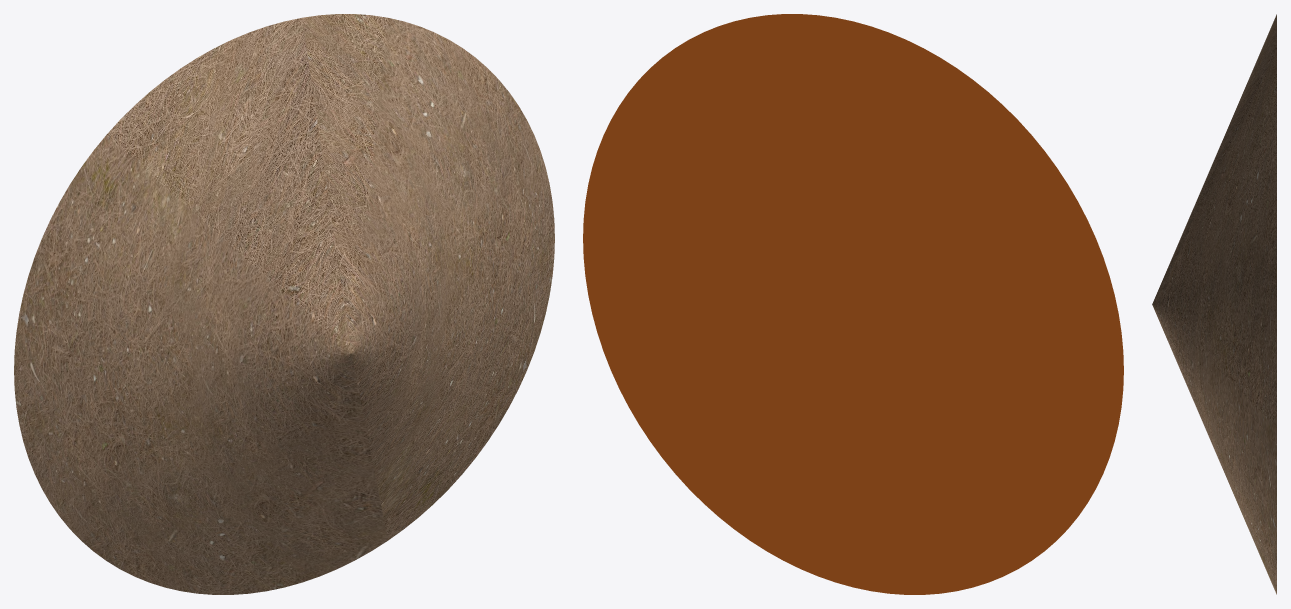
Rendered from nest_material.obj.
The picture shows the model from 3 angles, left to right: view 1: azimuth 30°, elevation 25°; view 2: azimuth 150°, elevation 25°; view 3: azimuth 270°, elevation 25°; orthographic projection. The views are drawn at different scales.
Parts seen in each view (by area): view 1: Object.1; view 2: Object.1; view 3: Object.1.
Boxes of the visible parts, x1,y1,x2,y2 form: Object.1: [14, 14, 554, 594]; Object.1: [583, 14, 1123, 594]; Object.1: [1152, 14, 1276, 594].
Bounding box in the file's own units: 40 × 40 × 8.58.
